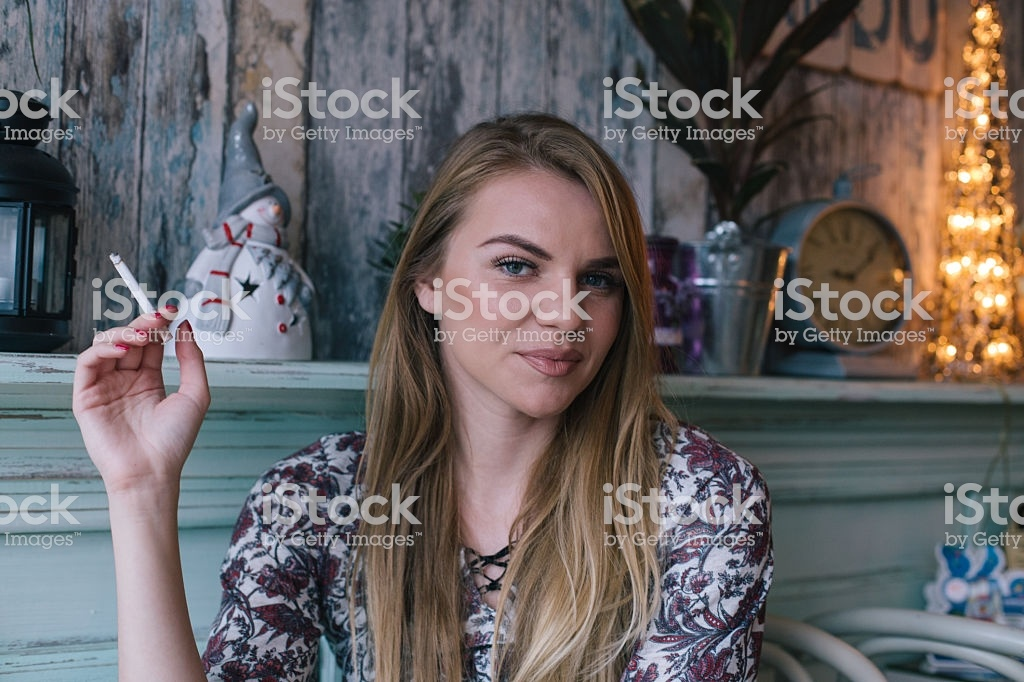sigaretta: (111, 254, 161, 325)
